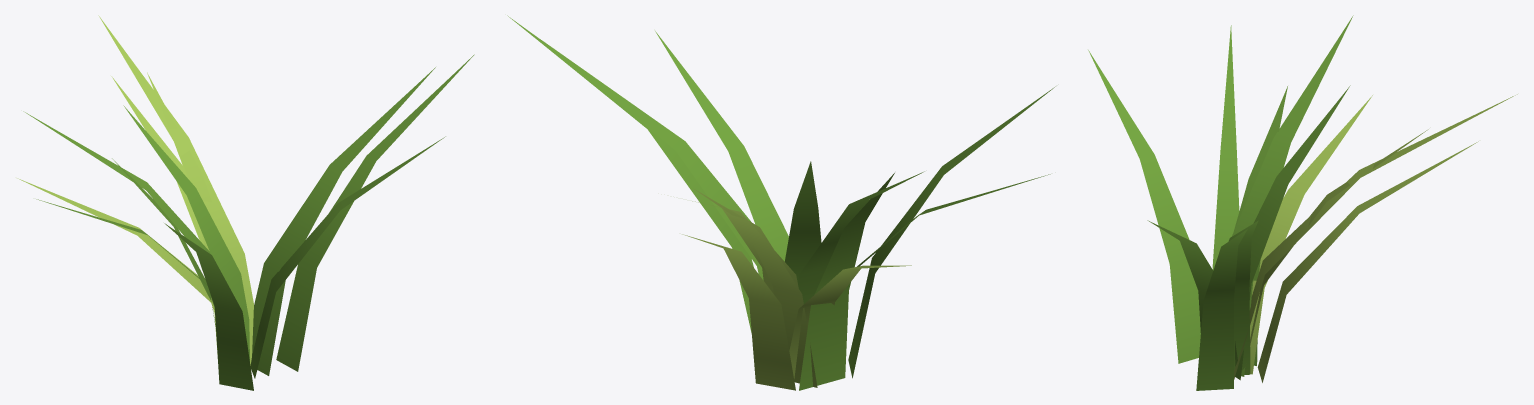
The model's file is grass_b.glb.
3 views of the same model, side by side, from view 1: azimuth 30°, elevation 25°; view 2: azimuth 150°, elevation 25°; view 3: azimuth 270°, elevation 25° (orthographic). The views are drawn at different scales.
Visible parts, largest first — view 1: grass_b; view 2: grass_b; view 3: grass_b.
Boxes of the visible parts, <box> form: grass_b: <box>17,15,474,390</box>; grass_b: <box>507,15,1055,390</box>; grass_b: <box>1088,15,1517,390</box>.
Size of the model in its own units: 0.9772 by 0.5294 by 0.7592.
